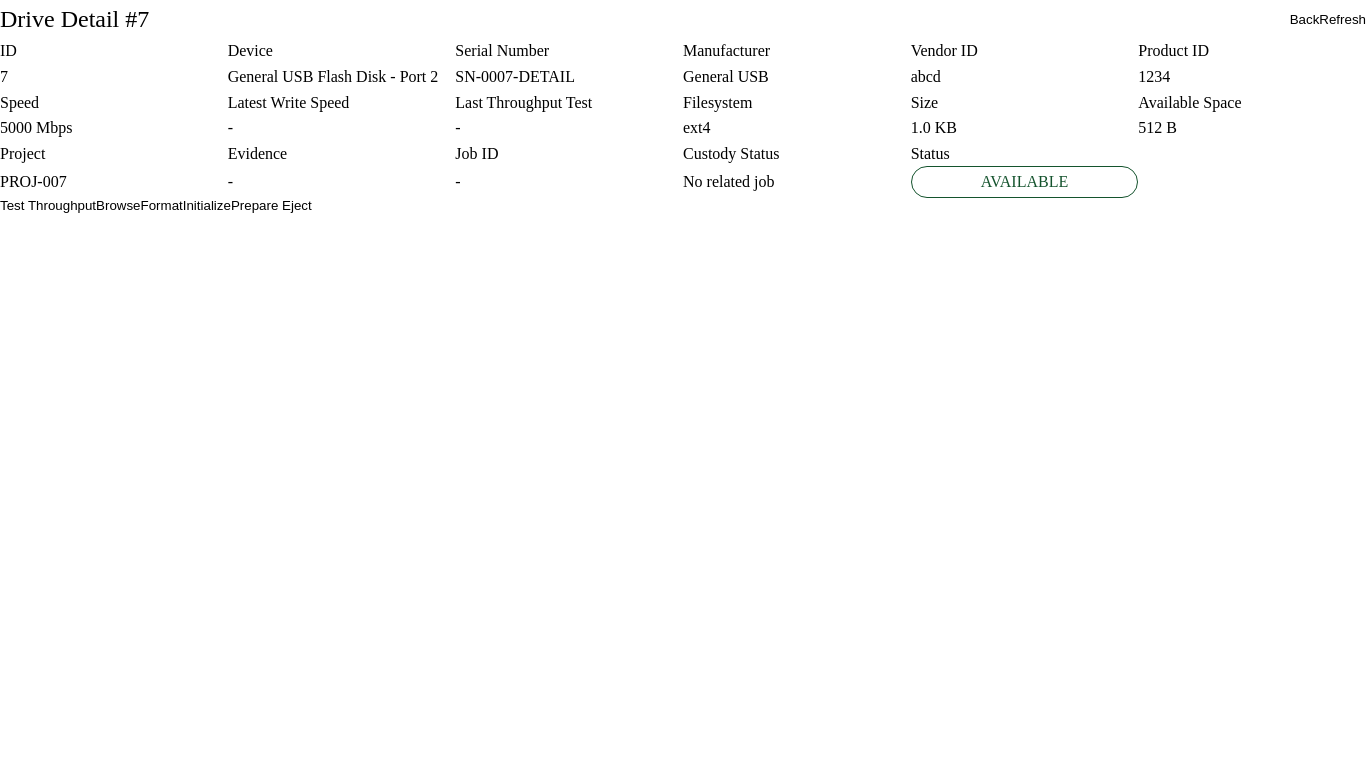
Test: DriveDetailView mount workflow › shows the empty helper and disables initialize submission when no mounted project exists
Click the button "Initialize": [207, 206] box [183,198,231,213]
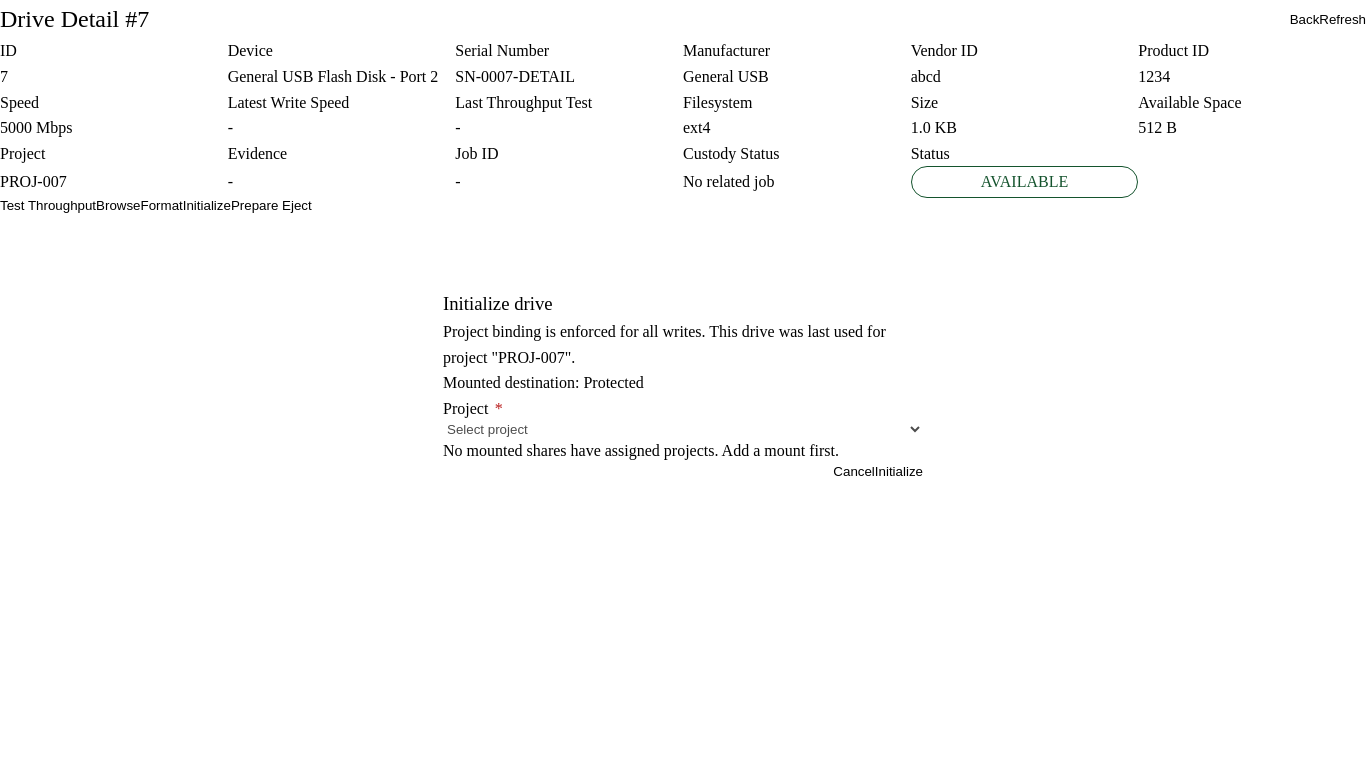
Check: the text "No mounted shares have assigned projects. Add a mount first." is shown, box [443,442,839,459]
Check: the button "Initialize" is shown, box [875,464,923,479]
